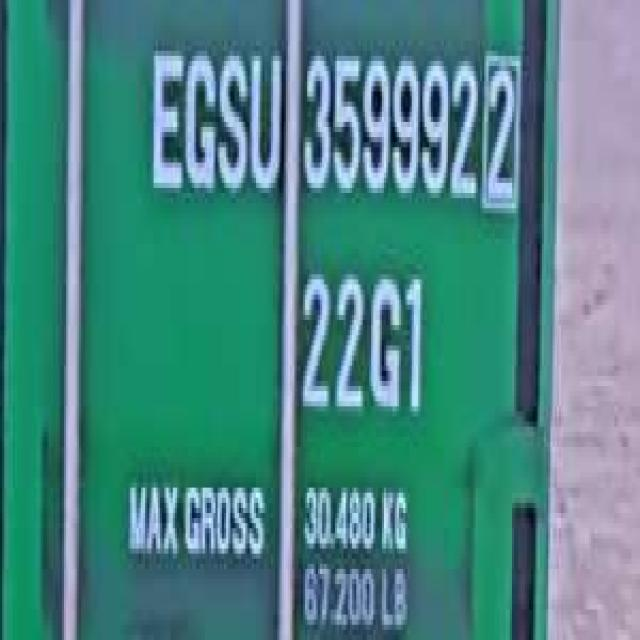dv: (481, 43, 523, 216)
owner: (147, 39, 286, 204)
serial: (303, 43, 479, 213)
size: (297, 258, 432, 424)
